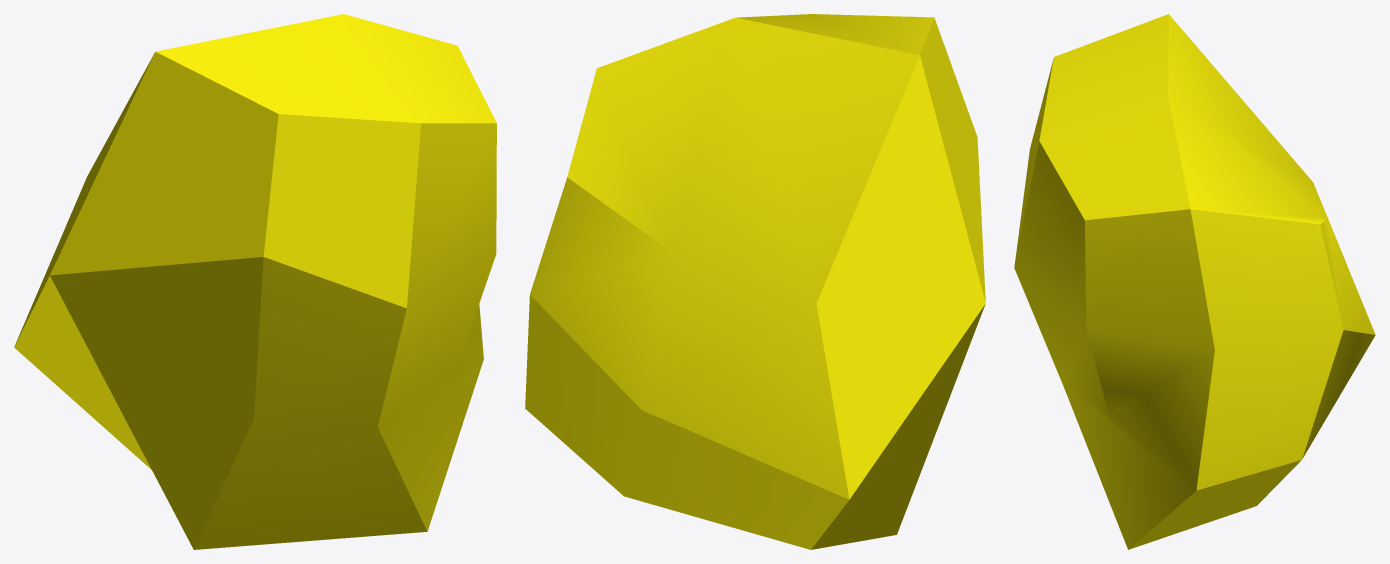
Rendered from item-gold-nugget.glb.
3 views of the same model, side by side, from view 1: azimuth 30°, elevation 25°; view 2: azimuth 150°, elevation 25°; view 3: azimuth 270°, elevation 25° (orthographic). The views are drawn at different scales.
Size of the model in its own units: 1.96 by 2.27 by 1.71.
